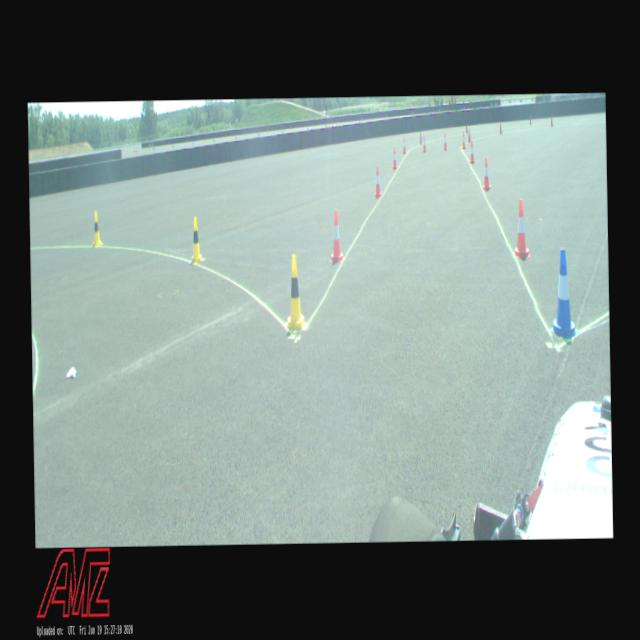blue_cone: (551, 247, 575, 338)
orange_cone: (513, 199, 529, 257), (330, 210, 342, 262), (482, 157, 491, 190), (374, 165, 382, 198), (469, 140, 475, 163), (392, 148, 396, 168), (402, 136, 406, 154), (422, 134, 426, 152), (462, 131, 466, 149), (443, 133, 447, 150)
unknown_cone: (419, 130, 422, 144), (468, 128, 470, 142), (465, 122, 467, 134), (499, 122, 501, 134), (550, 116, 552, 127), (529, 116, 531, 126)
yellow_cone: (286, 254, 304, 329), (190, 216, 202, 262), (92, 211, 101, 246)
